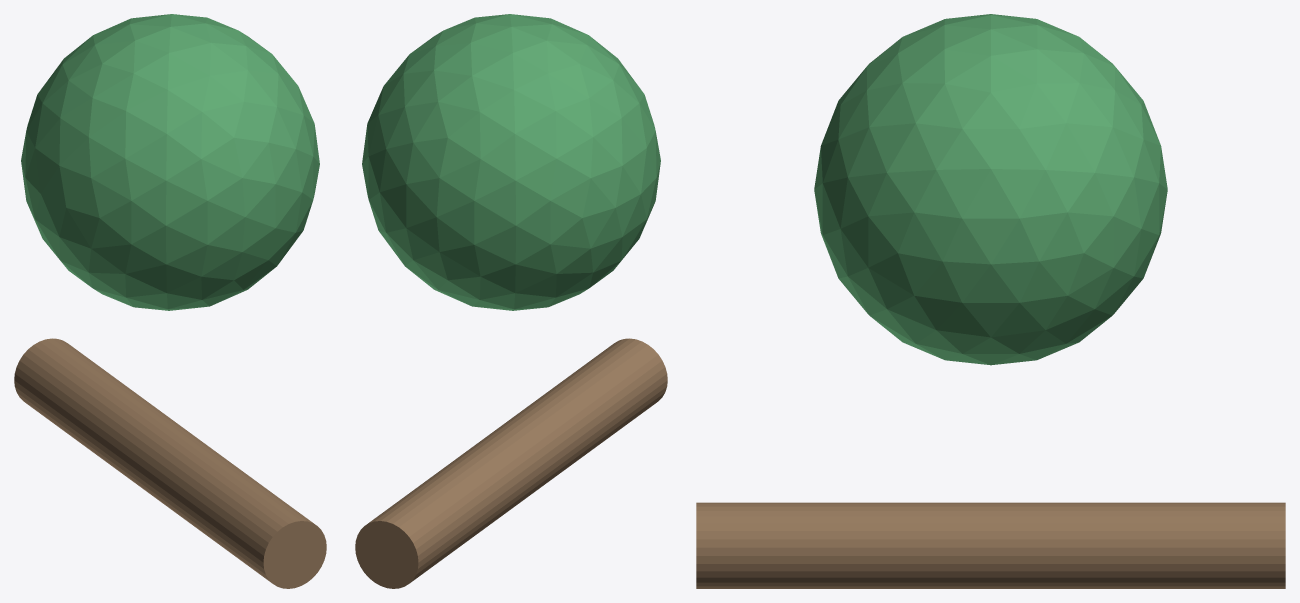
File: tree_02.glb
3 renders of one model, left to right at view 1: azimuth 30°, elevation 25°; view 2: azimuth 150°, elevation 25°; view 3: azimuth 270°, elevation 25°, orthographic. The views are drawn at different scales.
Parts seen in each view (by area): view 1: geometry_0; view 2: geometry_0; view 3: geometry_0.
Part boxes in pixels (x1,y1,x2,y2): geometry_0: [14, 14, 326, 588]; geometry_0: [355, 14, 667, 588]; geometry_0: [696, 14, 1285, 588].
Bounding box in the file's own units: 1.8 × 3.12 × 3.
